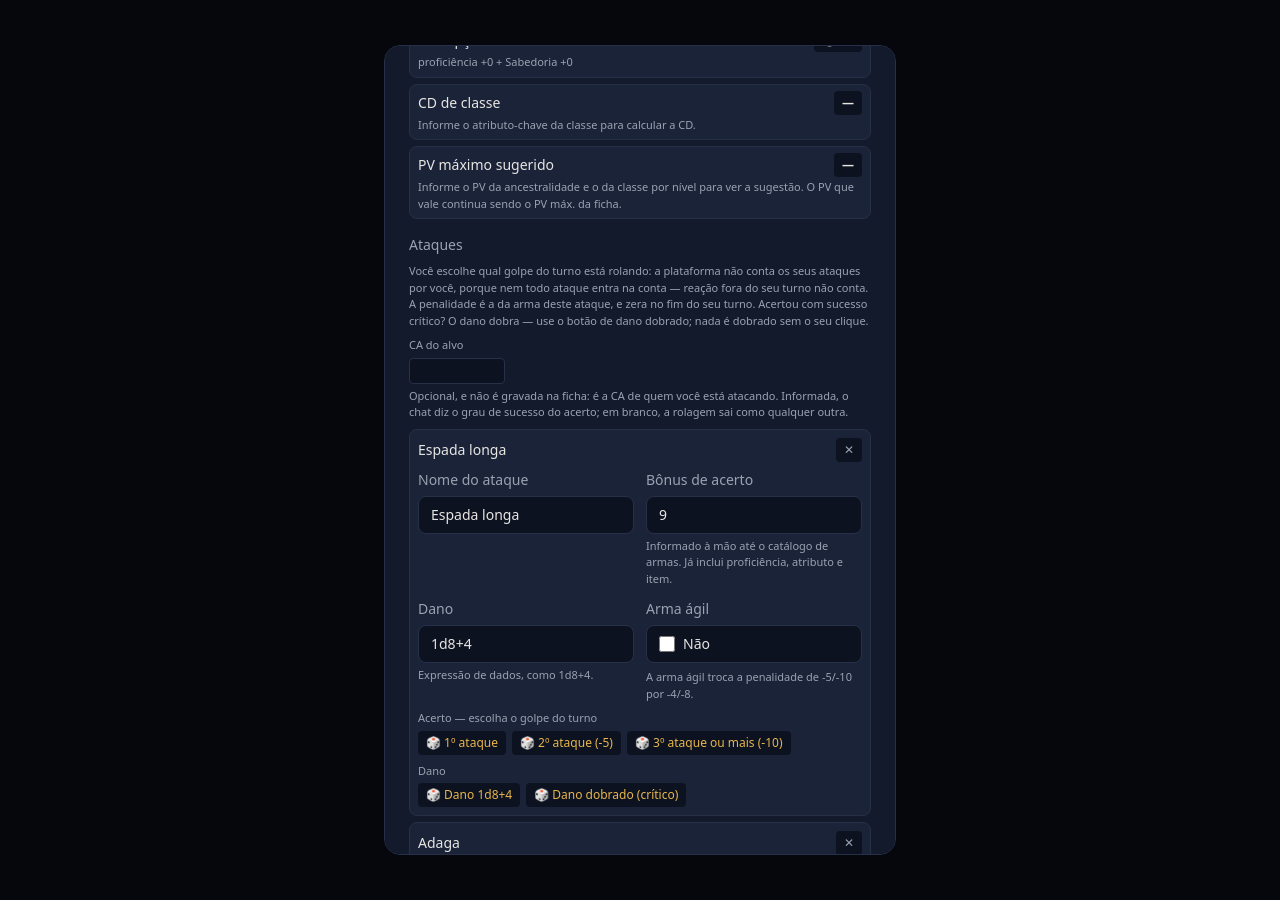
Test case: criar, editar e remover ataques › remover apaga só aquele ataque
The width and height of the screenshot is (1280, 900).
(page scrolled)
Click the button named "Remover Espada longa": (849, 450) top-left (836, 438), bottom-right (862, 462)
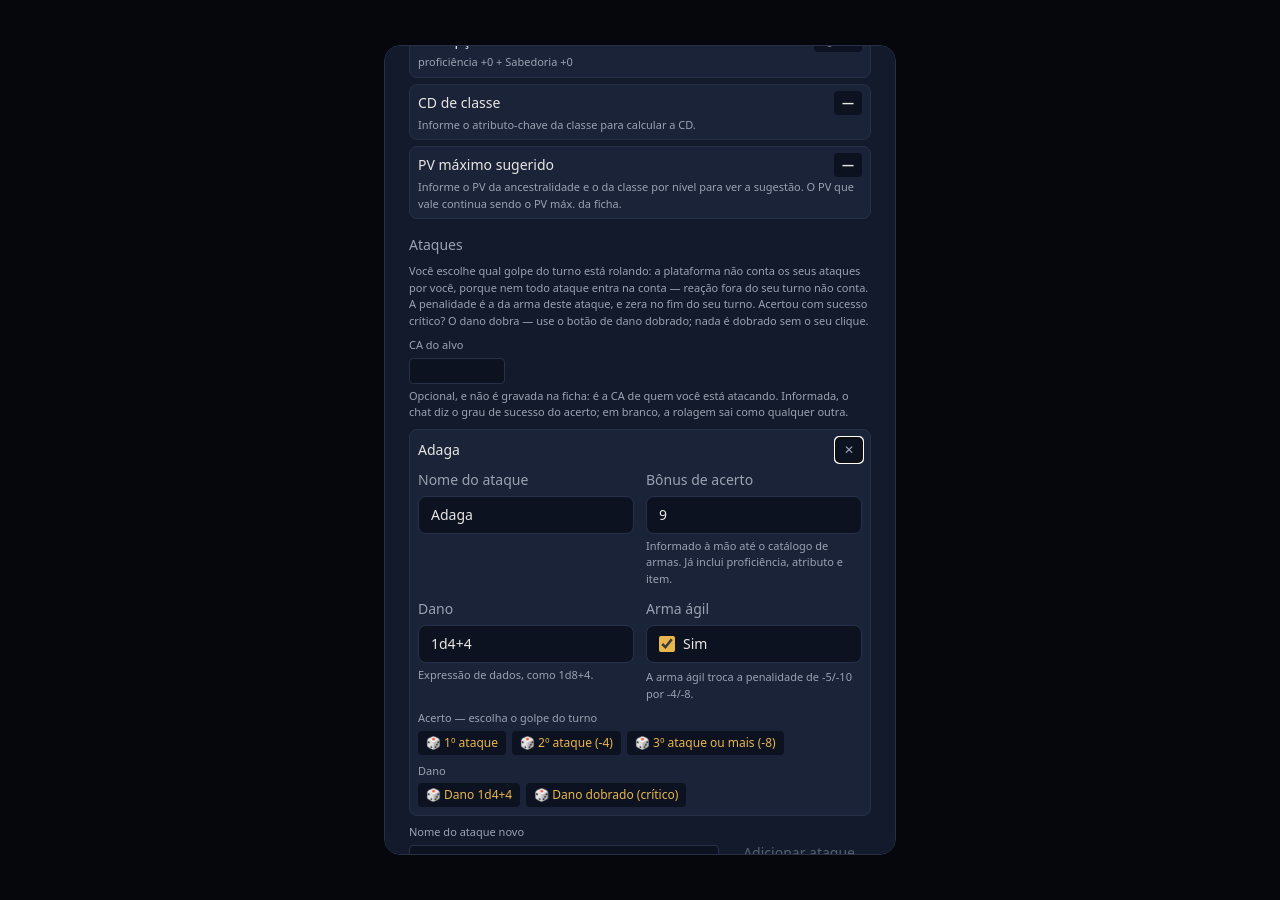
Result: the text "Espada longa" is gone
Result: the text "Adaga" is shown at top-left (418, 440), bottom-right (460, 458)
